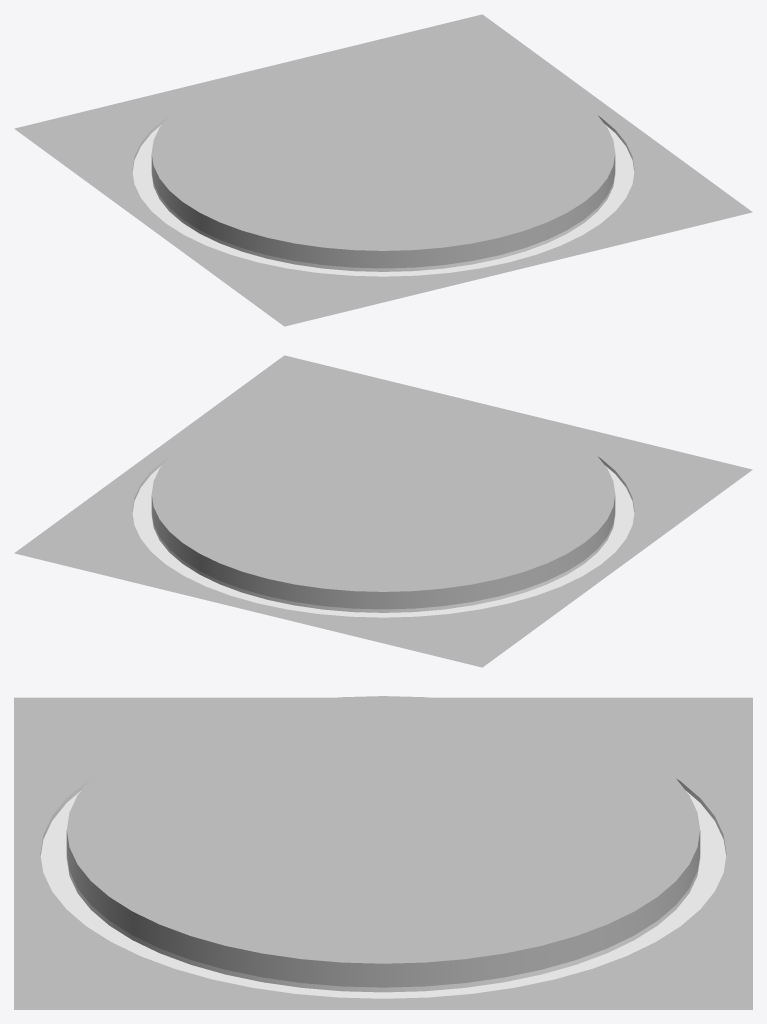
Rendered from Ceiling02_700x700cm.FBX.
The picture shows the model from 3 angles, top to bottom: view 1: azimuth 30°, elevation 25°; view 2: azimuth 150°, elevation 25°; view 3: azimuth 270°, elevation 25°; orthographic projection. The views are drawn at different scales.
Parts seen in each view (by area): view 1: Ceiling02_700x700cm; view 2: Ceiling02_700x700cm; view 3: Ceiling02_700x700cm.
Part boxes in pixels (bbox=[...]): Ceiling02_700x700cm: bbox=[14, 14, 752, 326]; Ceiling02_700x700cm: bbox=[14, 355, 752, 667]; Ceiling02_700x700cm: bbox=[14, 696, 752, 1009].
Size of the model in its own units: 700 by 30 by 700.
